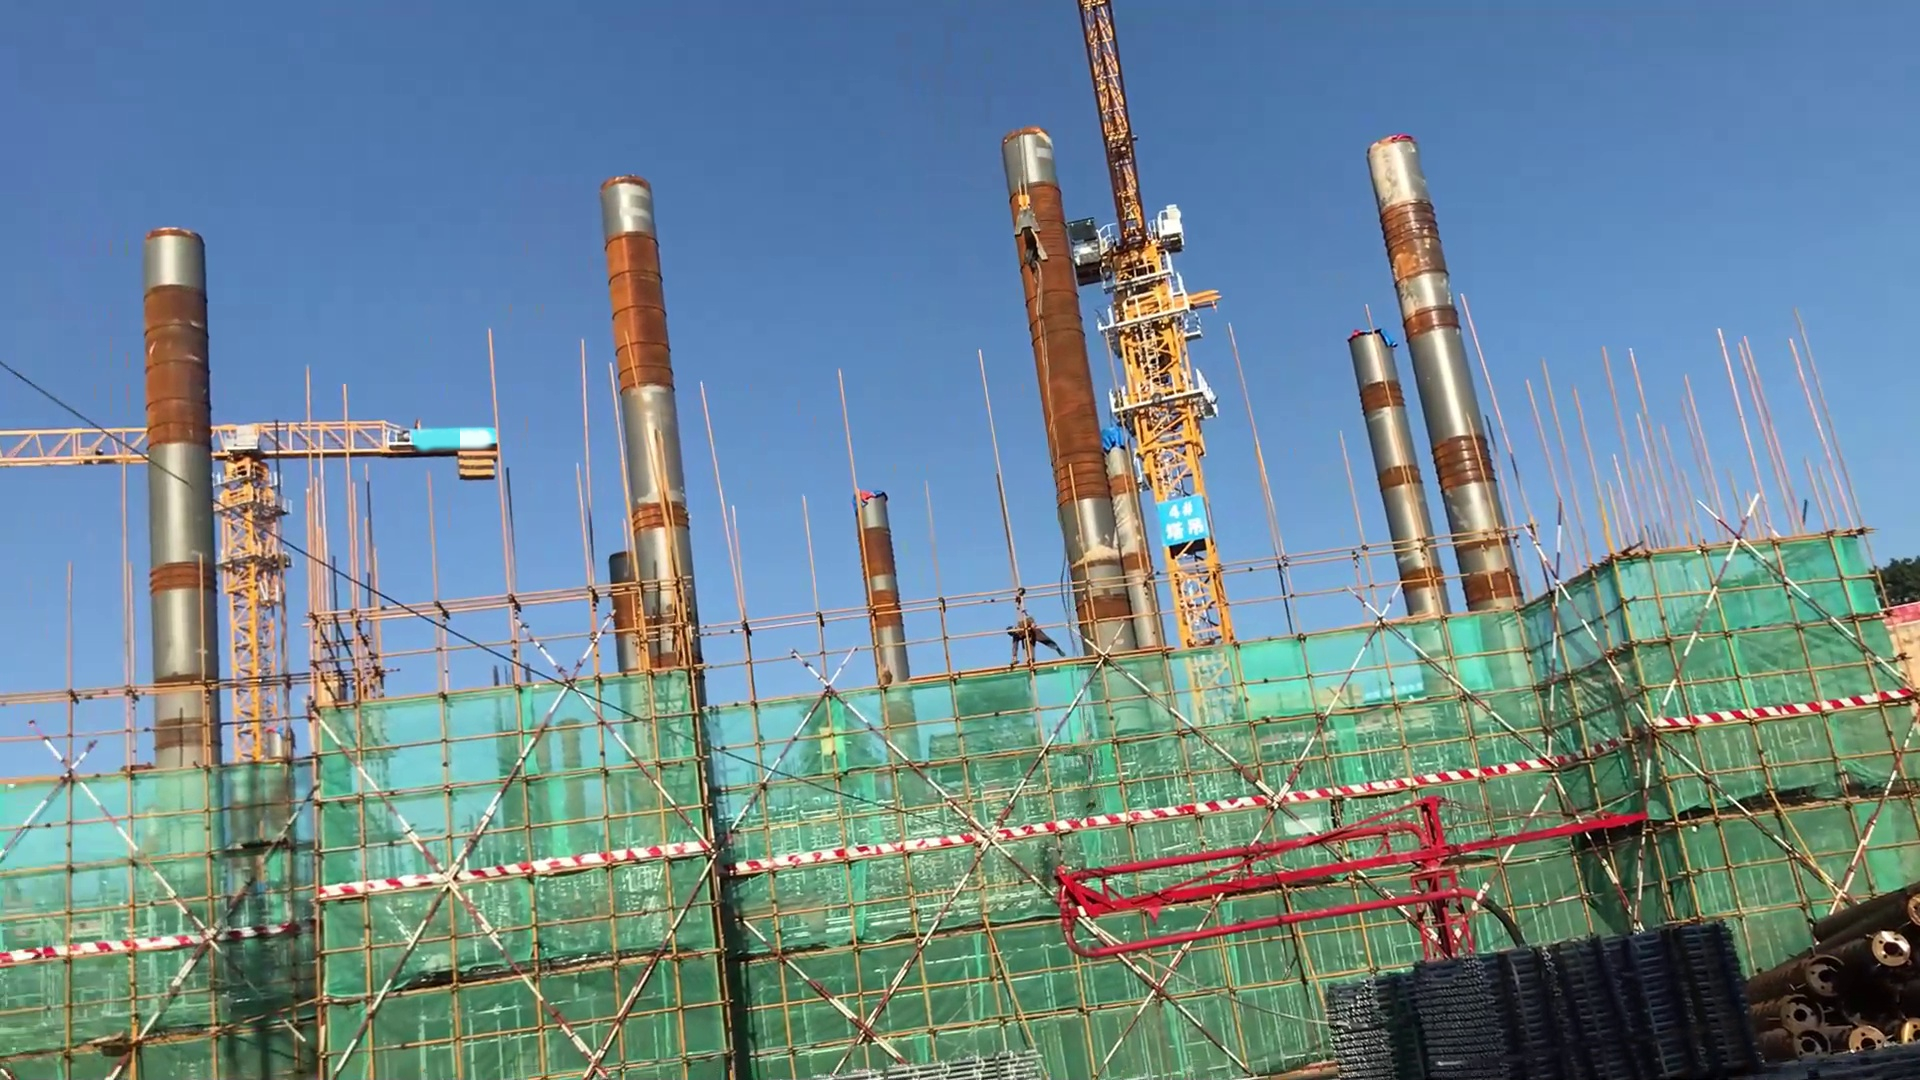hook: (993, 185, 1069, 276)
person: (991, 603, 1068, 668)
